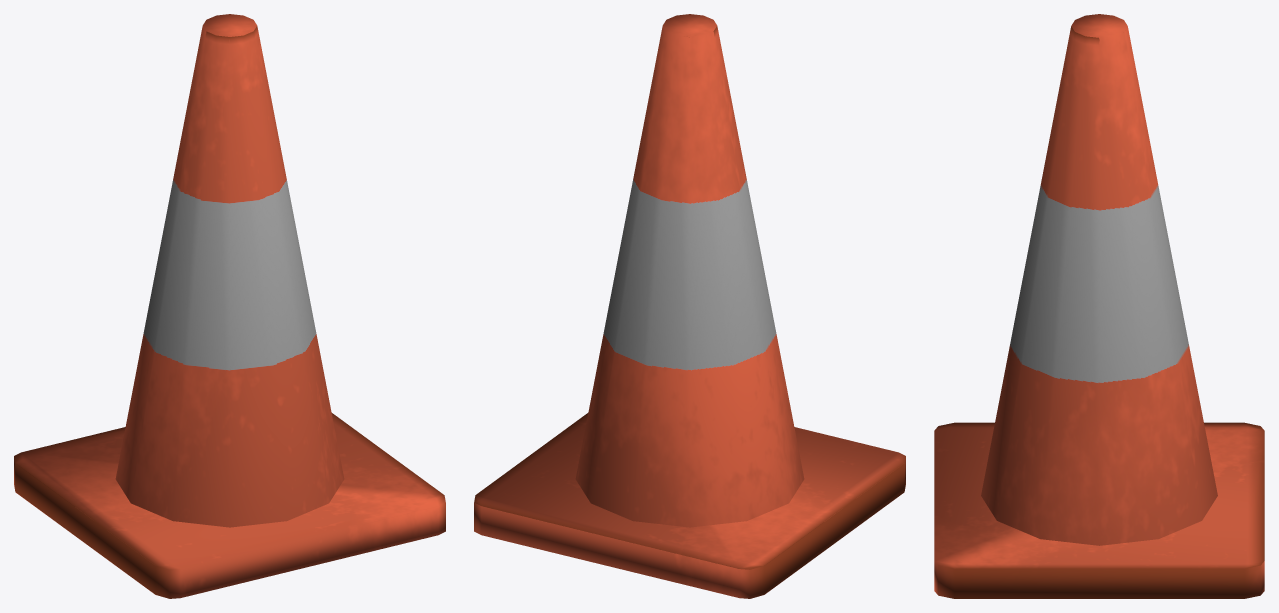
The model's file is traffic-cone3.fbx.
The picture shows the model from 3 angles, left to right: view 1: azimuth 30°, elevation 25°; view 2: azimuth 150°, elevation 25°; view 3: azimuth 270°, elevation 25°; orthographic projection. The views are drawn at different scales.
Parts seen in each view (by area): view 1: Plane; view 2: Plane; view 3: Plane.
Part boxes in pixels (x1,y1,x2,y2): Plane: (14, 14, 445, 598); Plane: (474, 14, 905, 598); Plane: (934, 14, 1264, 598).
Size of the model in its own units: 209 by 334 by 200.
